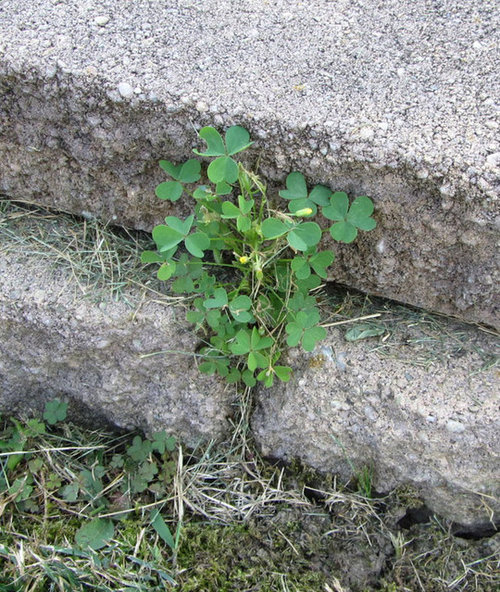clover: (149, 112, 382, 400), (36, 391, 81, 430)
